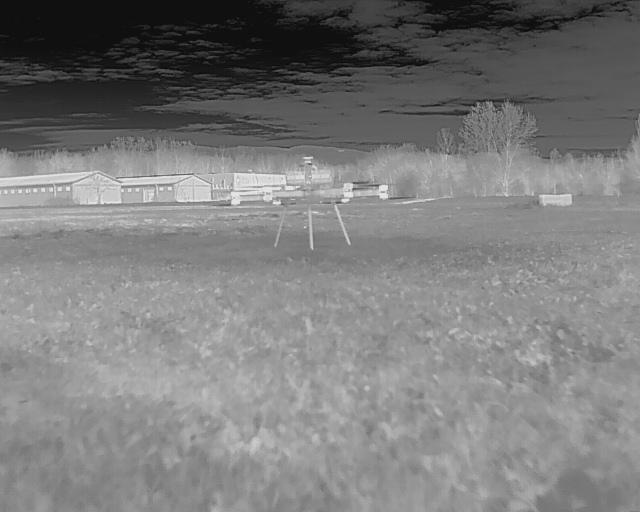drone: (228, 162, 396, 254)
